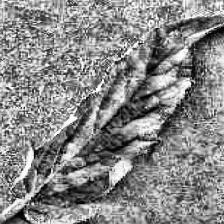leaf mold: (17, 16, 224, 224)
